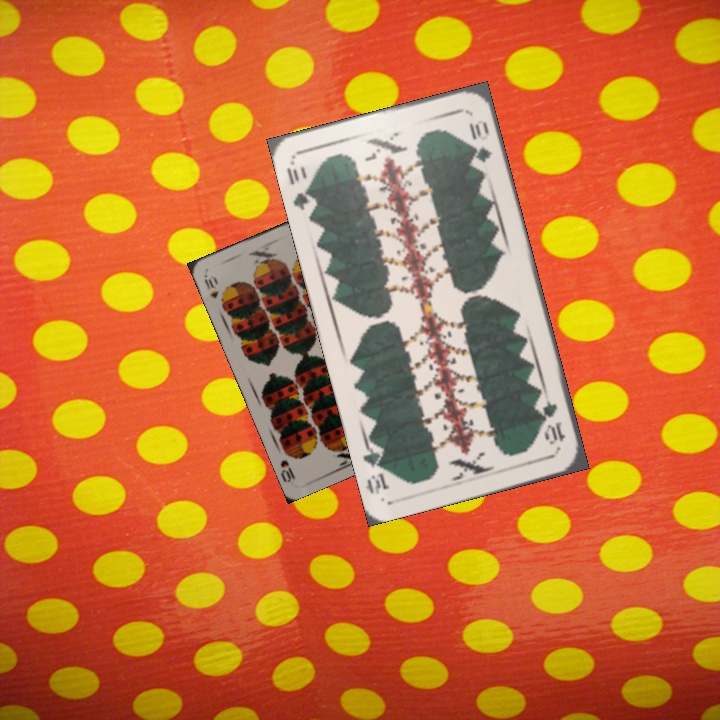G10: (282, 158, 319, 215), (538, 391, 568, 448)
S10: (200, 271, 221, 301)
